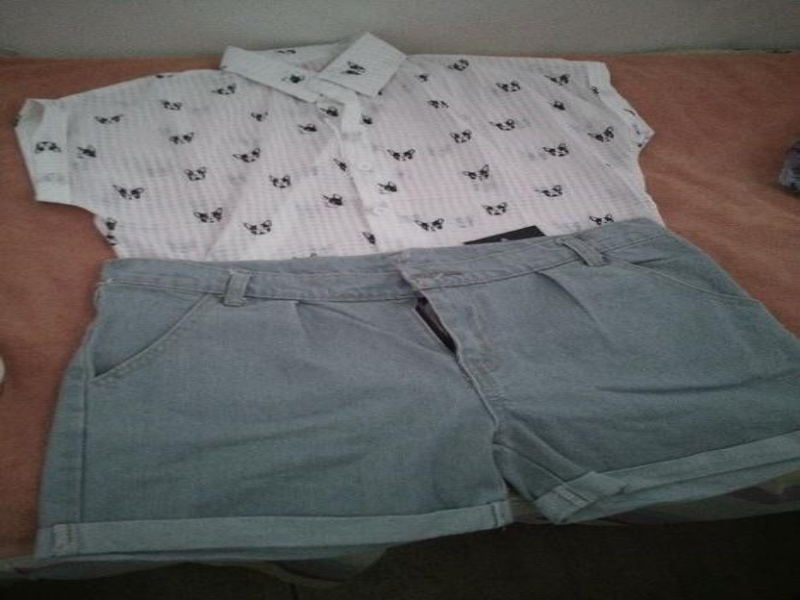short_sleeved_shirt: (0, 26, 691, 376)
shorts: (19, 212, 798, 571)
